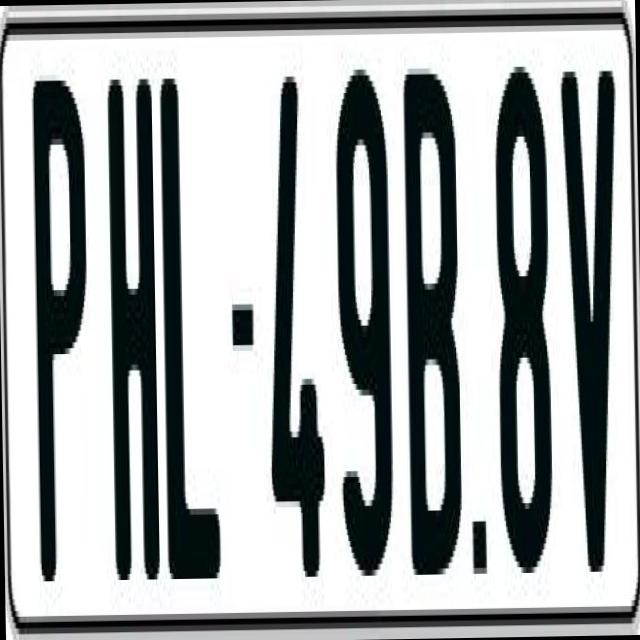4: (261, 63, 326, 566)
8: (490, 60, 550, 567)
9: (330, 50, 397, 588)
B: (401, 61, 464, 592)
H: (104, 79, 163, 604)
L: (154, 66, 223, 579)
P: (28, 62, 87, 564)
V: (558, 70, 624, 578)
